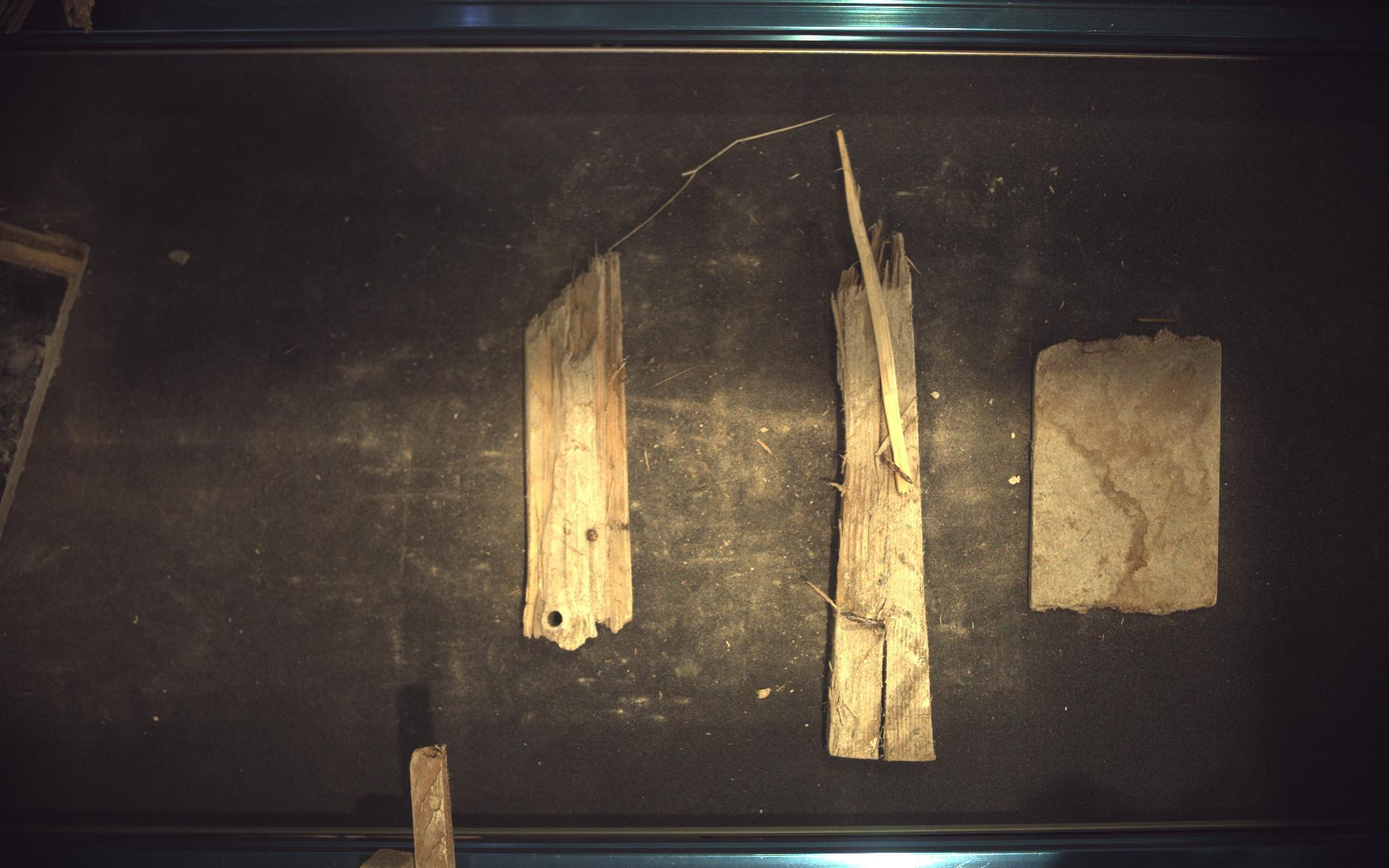wood: (829, 224, 936, 762), (1032, 329, 1223, 615), (524, 252, 633, 651), (838, 128, 917, 494), (1, 221, 88, 533)
